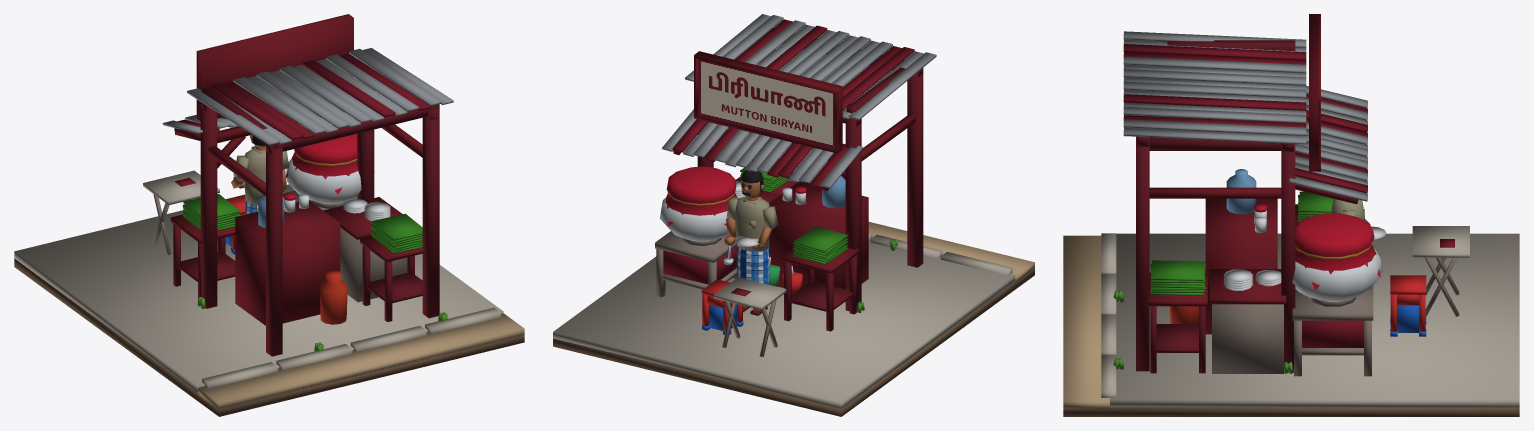
Rendered from biryani_stall_c.glb.
3 views of the same model, side by side, from view 1: azimuth 30°, elevation 25°; view 2: azimuth 150°, elevation 25°; view 3: azimuth 270°, elevation 25° (orthographic). The views are drawn at different scales.
Parts seen in each view (by area): view 1: stall; view 2: stall, sign, lungi; view 3: stall.
Part boxes in pixels (left/top/right/bottom): stall: left=14, top=14, right=524, bottom=416; stall: left=553, top=14, right=1034, bottom=416; sign: left=698, top=59, right=834, bottom=148; lungi: left=736, top=246, right=769, bottom=306; stall: left=1063, top=14, right=1519, bottom=416.
Size of the model in its own units: 3.7 by 2.99 by 4.3.
Materials: 3 (2 with a texture image).
